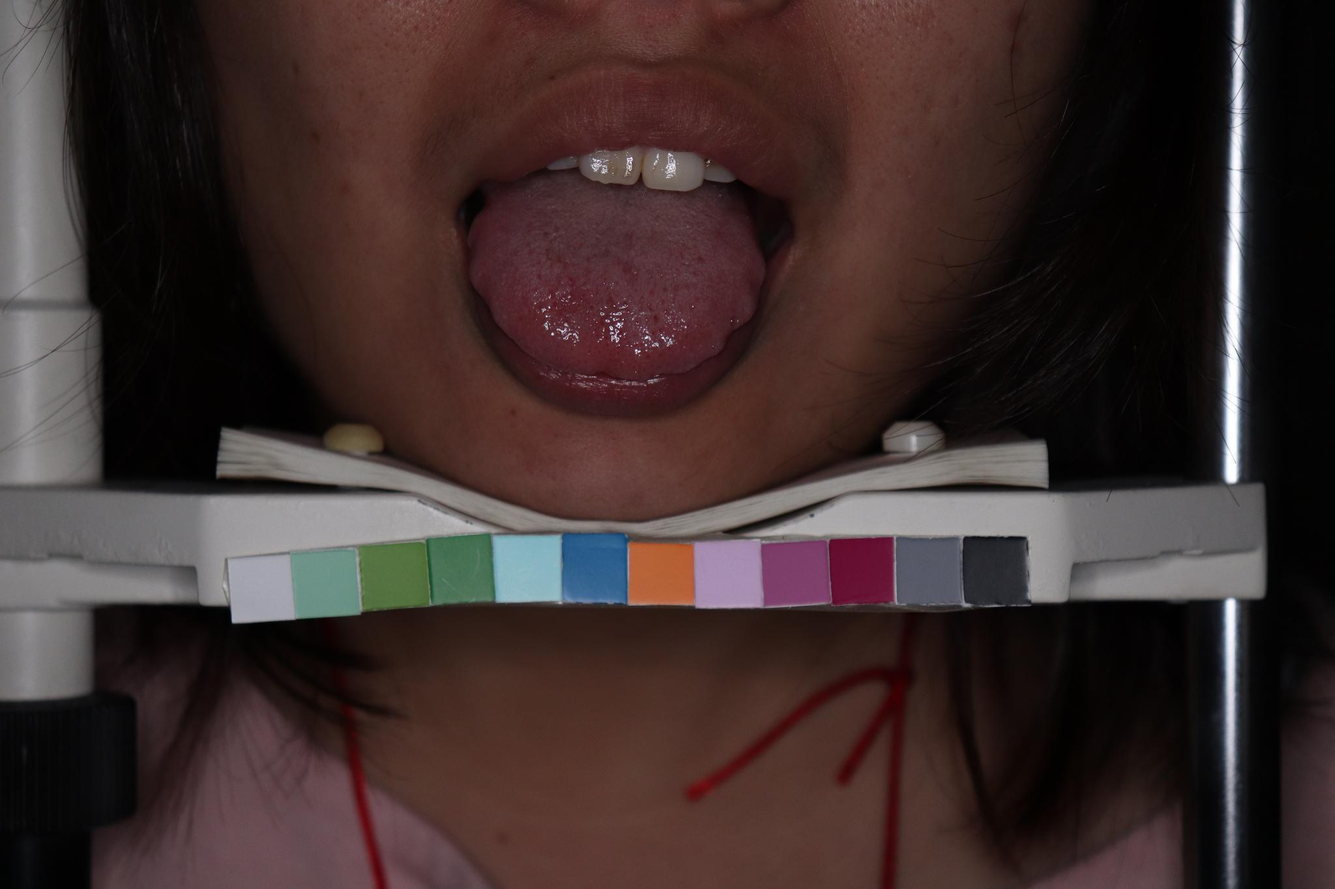baitaishe: (467, 171, 766, 380)
chihenshe: (714, 306, 756, 348), (740, 261, 766, 307)
hongdianshe: (651, 311, 660, 325), (694, 253, 704, 264), (565, 274, 574, 284)
